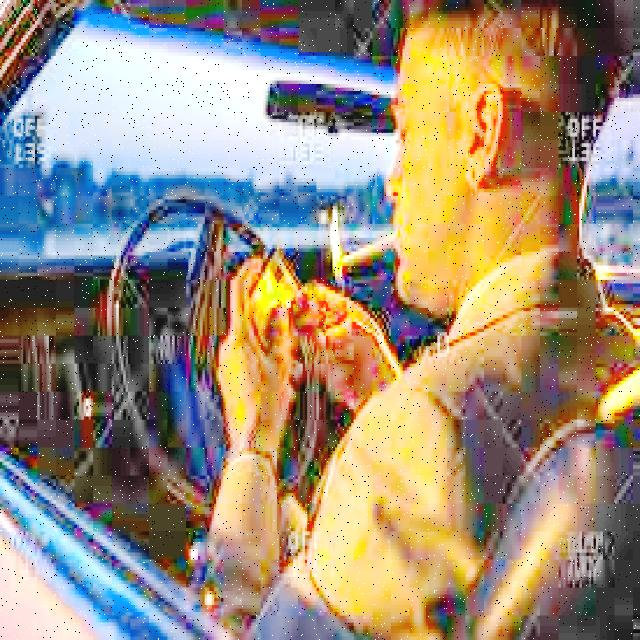api: (325, 197, 351, 281)
